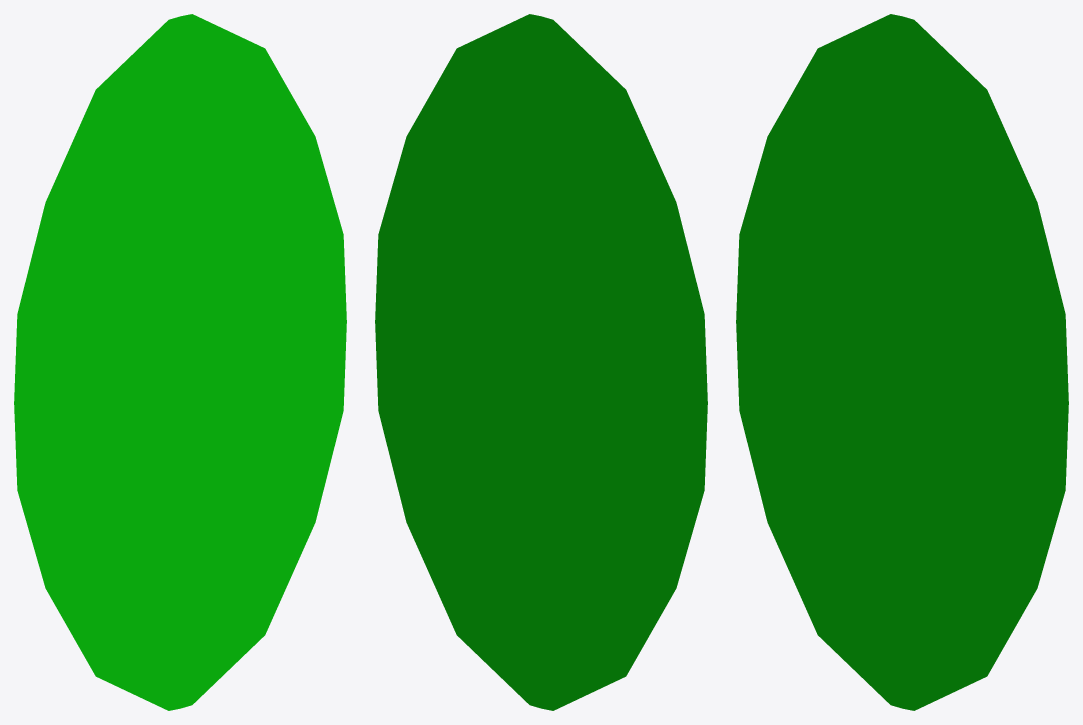
File: oval_01.glb
3 views of the same model, side by side, from view 1: azimuth 30°, elevation 25°; view 2: azimuth 150°, elevation 25°; view 3: azimuth 330°, elevation 25° (orthographic).
Parts seen in each view (by area): view 1: longboat_109-mesh; view 2: longboat_109-mesh; view 3: longboat_109-mesh.
Part boxes in pixels (box(x1,y1,x2,y2)): longboat_109-mesh: box(14, 14, 346, 710); longboat_109-mesh: box(375, 14, 707, 710); longboat_109-mesh: box(736, 14, 1068, 710).
Size of the model in its own units: 1.33 by 2.65 by 0.
